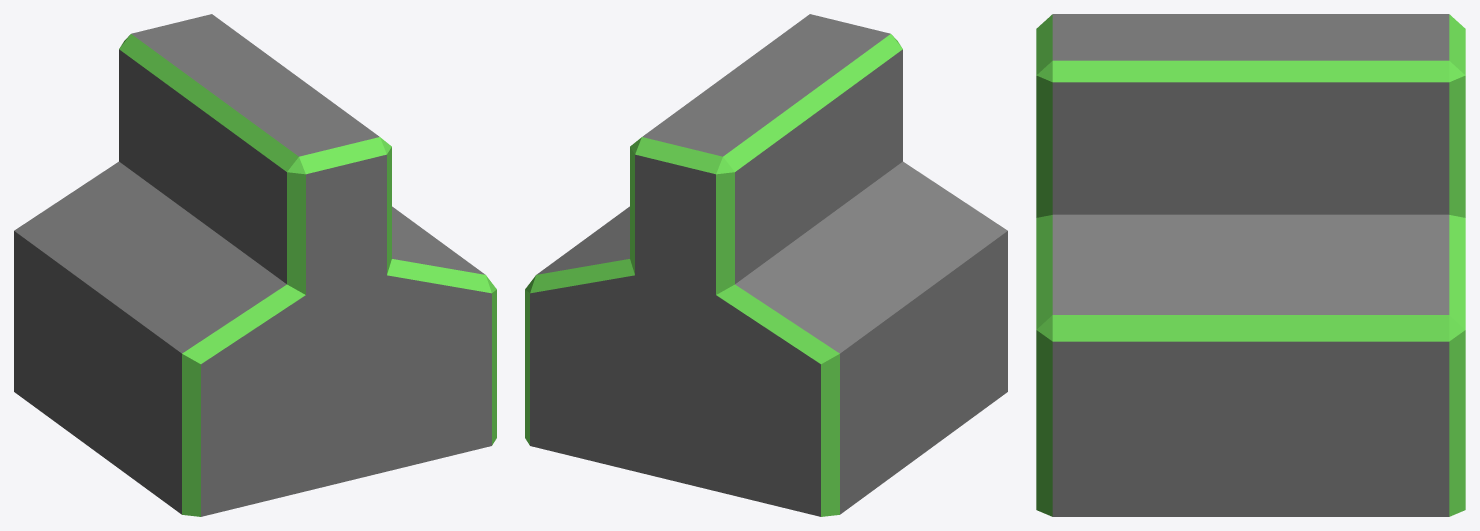
The model's file is miner_mk2.glb.
3 views of the same model, side by side, from view 1: azimuth 30°, elevation 25°; view 2: azimuth 150°, elevation 25°; view 3: azimuth 270°, elevation 25° (orthographic). The views are drawn at different scales.
Parts seen in each view (by area): view 1: miner; view 2: miner; view 3: miner.
Boxes of the visible parts, left/top/right/bottom form: miner: left=14, top=14, right=496, bottom=516; miner: left=525, top=14, right=1007, bottom=516; miner: left=1036, top=14, right=1465, bottom=516.
Size of the model in its own units: 1 by 1 by 1.
